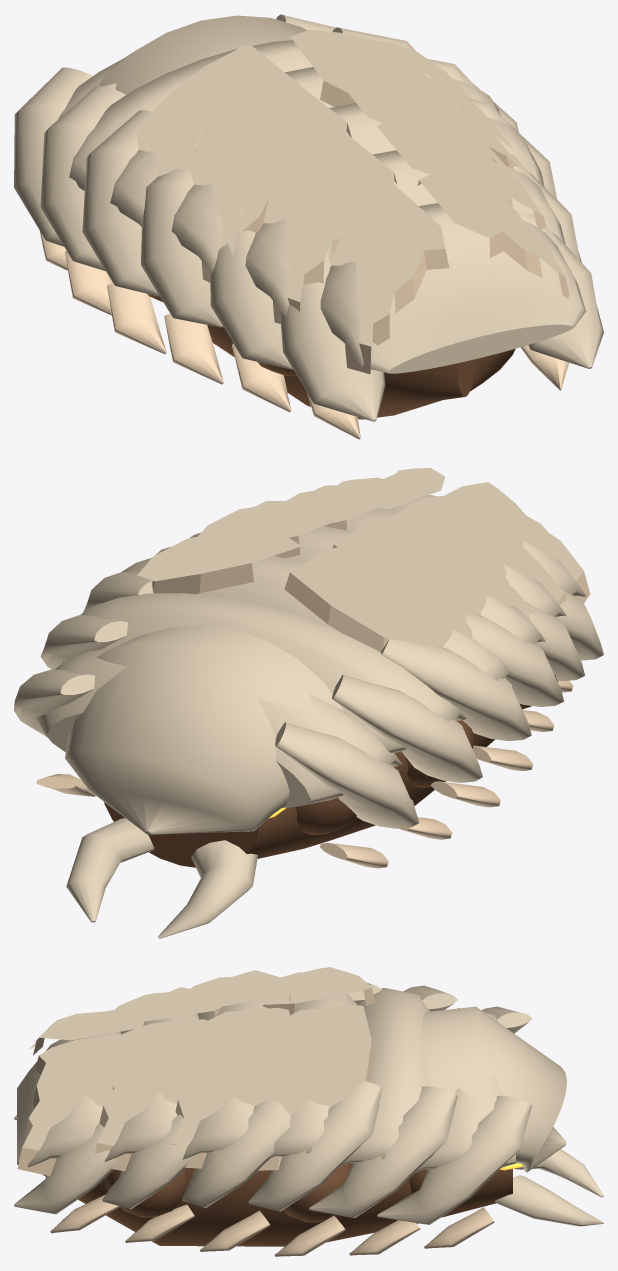
The model's file is catapult_shell.glb.
3 renders of one model, top to bottom at view 1: azimuth 30°, elevation 25°; view 2: azimuth 150°, elevation 25°; view 3: azimuth 270°, elevation 25°, orthographic. The views are drawn at different scales.
Visible parts, largest first — view 1: catapult_shell; view 2: catapult_shell; view 3: catapult_shell.
Part boxes in pixels (x1,y1,x2,y2): catapult_shell: (14,14,603,439); catapult_shell: (14,468,603,938); catapult_shell: (14,967,603,1256).
Bounding box in the file's own units: 1.45 × 0.9405 × 2.08.
